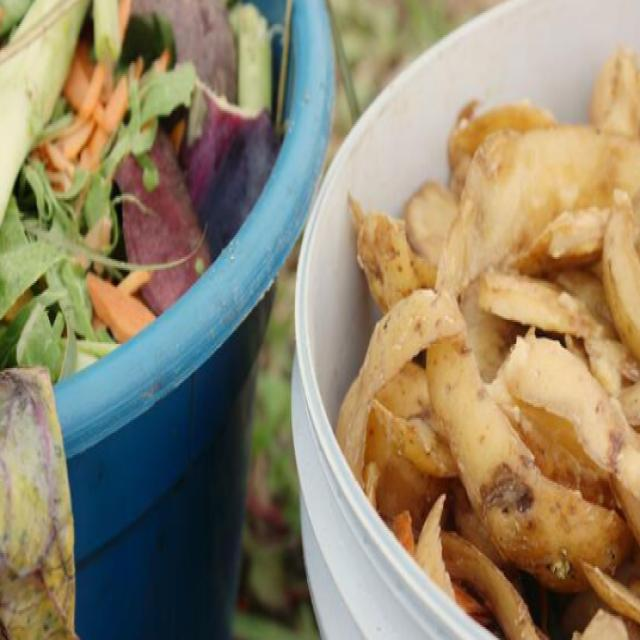paper: (416, 148, 640, 557), (84, 74, 214, 252)
